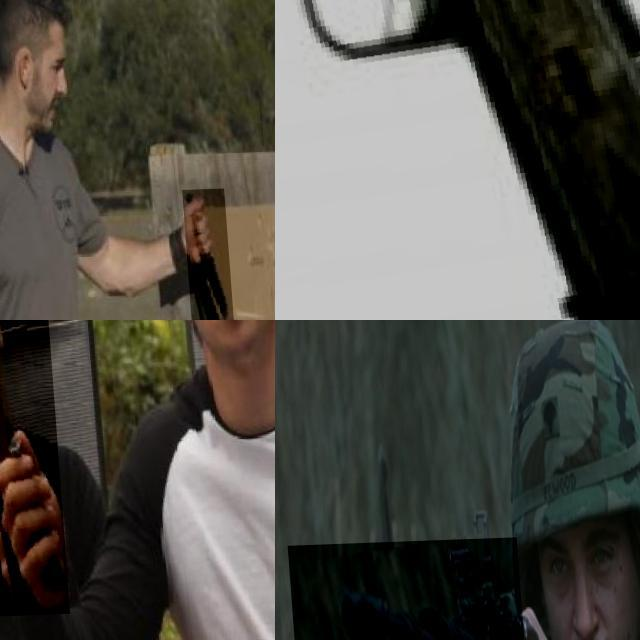-: (0, 320, 62, 618), (178, 192, 228, 320)
gun-knife-thesis - v11 Yolov5 augmented: (275, 0, 640, 320), (283, 539, 535, 640)
